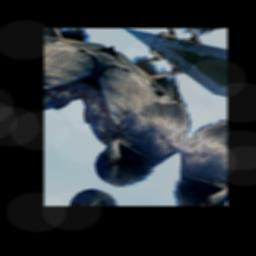Crow: (46, 29, 226, 202)
